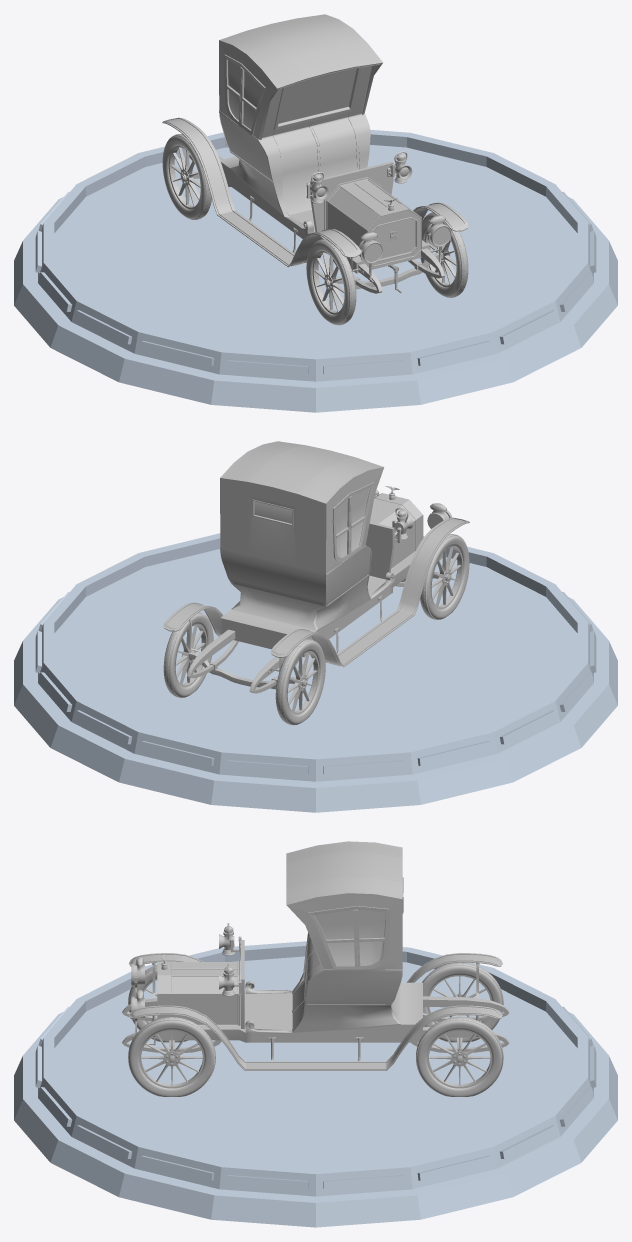
File: Car 3.FBX
3 renders of one model, top to bottom at view 1: azimuth 30°, elevation 25°; view 2: azimuth 150°, elevation 25°; view 3: azimuth 270°, elevation 25°, orthographic.
Parts seen in each view (by area): view 1: platform002, Rochet_Schnaider001; view 2: platform002, Rochet_Schnaider001; view 3: platform002, Rochet_Schnaider001.
Part boxes in pixels (bbox=[...]): platform002: bbox=[14, 129, 617, 412]; Rochet_Schnaider001: bbox=[162, 14, 468, 325]; platform002: bbox=[14, 533, 617, 812]; Rochet_Schnaider001: bbox=[163, 441, 469, 725]; platform002: bbox=[14, 941, 617, 1227]; Rochet_Schnaider001: bbox=[122, 841, 509, 1096].
Bounding box in the file's own units: 395 × 166 × 389.
